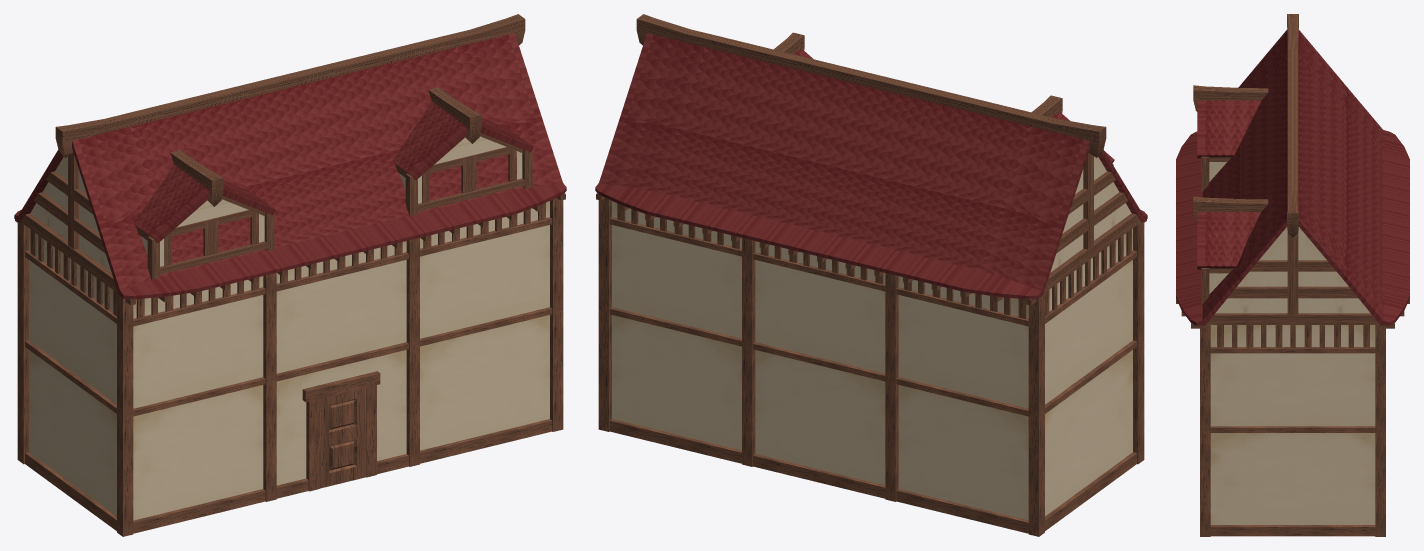
Rendered from 2_Story_House2_MESH_1.fbx.
The picture shows the model from 3 angles, left to right: view 1: azimuth 30°, elevation 25°; view 2: azimuth 150°, elevation 25°; view 3: azimuth 270°, elevation 25°; orthographic projection. The views are drawn at different scales.
Parts seen in each view (by area): view 1: pPlane655; view 2: pPlane655; view 3: pPlane655.
Boxes of the visible parts, x1,y1,x2,y2 form: pPlane655: (14, 14, 566, 536); pPlane655: (595, 14, 1147, 536); pPlane655: (1176, 14, 1409, 536).
Bounding box in the file's own units: 1614 × 1240 × 800.
